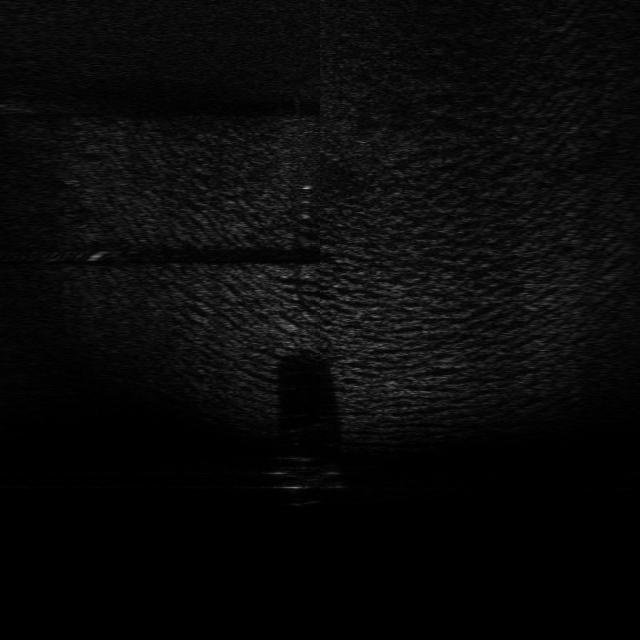cube: (281, 466, 343, 492)
